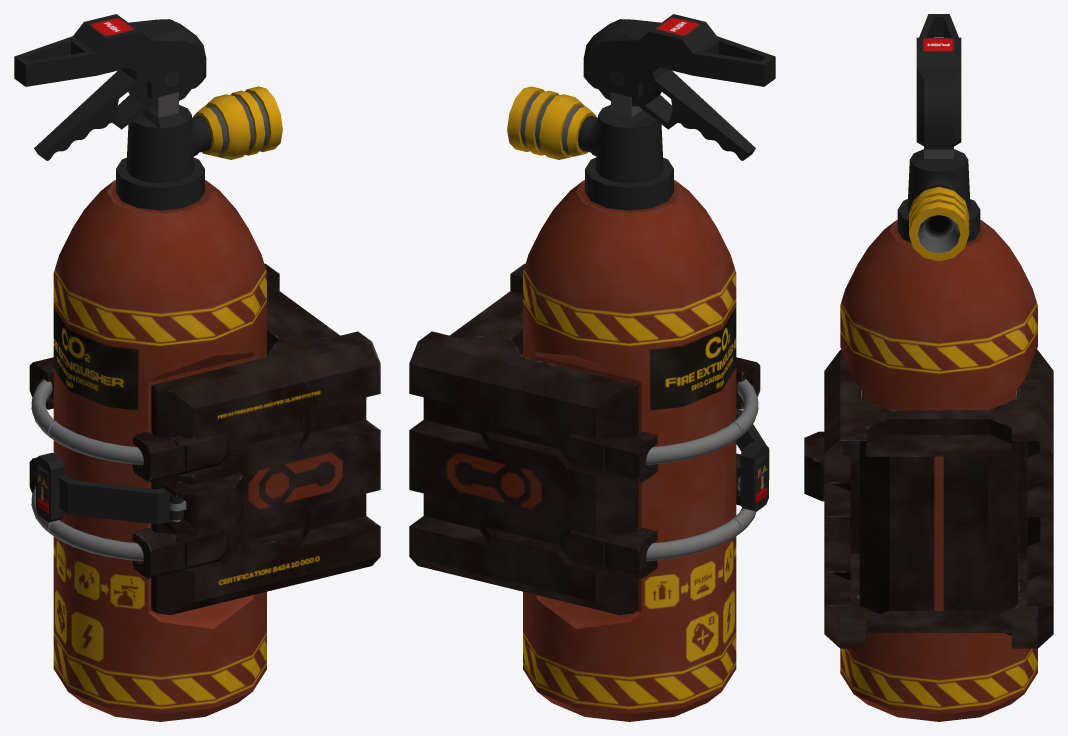
3 renders of one model, left to right at view 1: azimuth 30°, elevation 25°; view 2: azimuth 150°, elevation 25°; view 3: azimuth 270°, elevation 25°, orthographic. The views are drawn at different scales.
Parts seen in each view (by area): view 1: Extinguisher_3_low_11, Extinguisher_4_low_17, Extinguisher_1_low_9, Extinguisher_2_low_10, Extinguisher_10_low_0, Extinguisher_8_low_15, Extinguisher_9_low_16, Extinguisher_18_low_8, Extinguisher_6_low_13, Extinguisher_11_low_1, Extinguisher_17_low_7, Extinguisher_7_low_14; view 2: Extinguisher_3_low_11, Extinguisher_4_low_17, Extinguisher_1_low_9, Extinguisher_2_low_10, Extinguisher_7_low_14, Extinguisher_17_low_7, Extinguisher_5_low_12, Extinguisher_11_low_1, Extinguisher_18_low_8, Extinguisher_8_low_15; view 3: Extinguisher_4_low_17, Extinguisher_3_low_11, Extinguisher_1_low_9, Extinguisher_9_low_16.
Part boxes in pixels (<box>): Extinguisher_3_low_11: <box>53,86,282,721</box>; Extinguisher_4_low_17: <box>151,263,380,614</box>; Extinguisher_1_low_9: <box>14,14,206,98</box>; Extinguisher_2_low_10: <box>34,67,190,160</box>; Extinguisher_10_low_0: <box>59,474,183,524</box>; Extinguisher_8_low_15: <box>132,431,184,578</box>; Extinguisher_9_low_16: <box>163,473,243,535</box>; Extinguisher_18_low_8: <box>49,423,143,561</box>; Extinguisher_6_low_13: <box>172,432,229,572</box>; Extinguisher_11_low_1: <box>36,452,64,522</box>; Extinguisher_17_low_7: <box>31,379,58,534</box>; Extinguisher_7_low_14: <box>29,357,53,493</box>; Extinguisher_3_low_11: <box>507,86,736,721</box>; Extinguisher_4_low_17: <box>409,263,638,614</box>; Extinguisher_1_low_9: <box>583,14,775,98</box>; Extinguisher_2_low_10: <box>599,67,755,160</box>; Extinguisher_7_low_14: <box>605,431,657,578</box>; Extinguisher_17_low_7: <box>646,423,740,561</box>; Extinguisher_5_low_12: <box>560,432,617,572</box>; Extinguisher_11_low_1: <box>740,441,768,511</box>; Extinguisher_18_low_8: <box>731,379,758,534</box>; Extinguisher_8_low_15: <box>736,357,760,505</box>; Extinguisher_4_low_17: <box>824,349,1053,648</box>; Extinguisher_3_low_11: <box>840,146,1037,721</box>; Extinguisher_1_low_9: <box>916,14,961,146</box>; Extinguisher_9_low_16: <box>804,431,843,501</box>.
Size of the model in its own units: 0.2672 by 0.5717 by 0.2085.
Materials: 1 (1 with a texture image).
